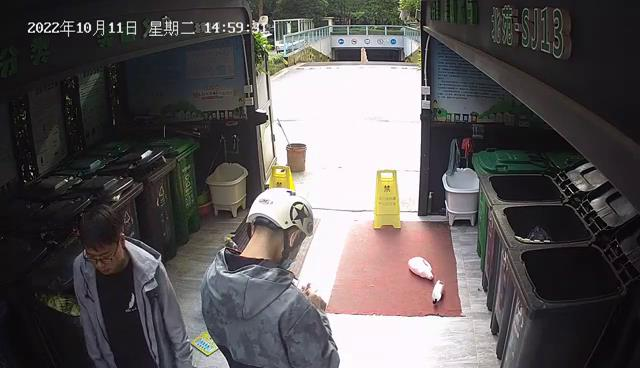person: (199, 186, 341, 368), (71, 203, 194, 368)
suliaozhipin: (406, 255, 435, 280), (430, 280, 445, 305)
zhizhipin: (190, 329, 219, 358)
